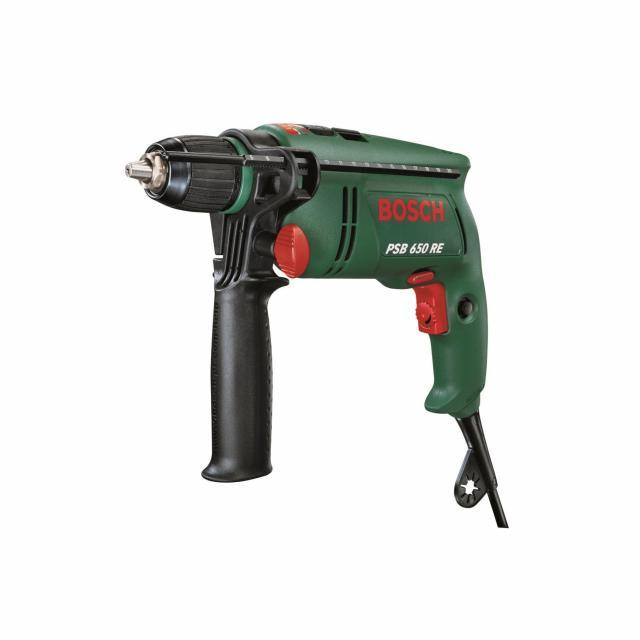drill: (124, 123, 498, 508)
